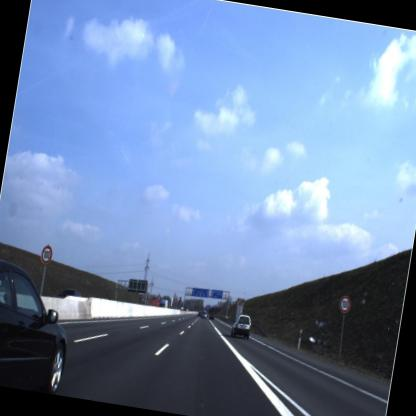prohibitory: (35, 237, 56, 267), (334, 289, 356, 316)
